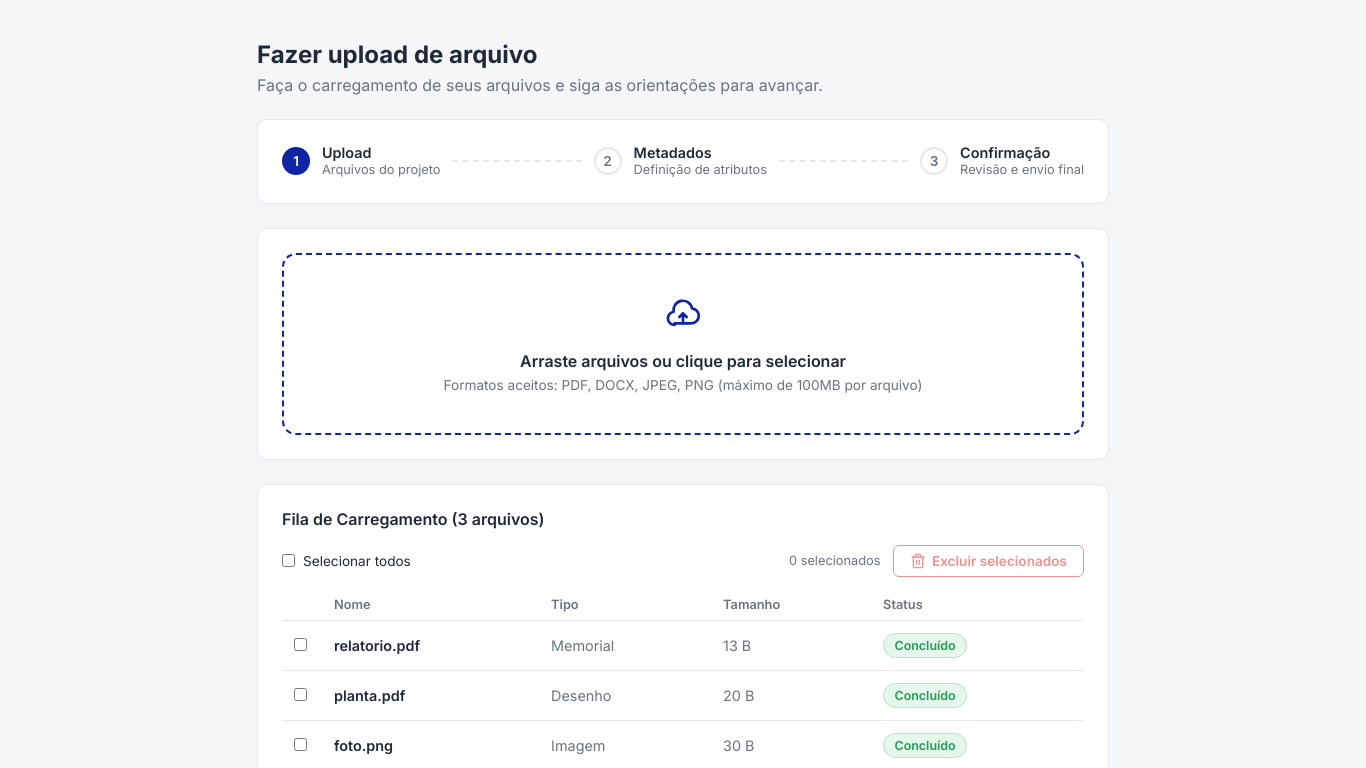
Test: DocumentUploadView › should remove several selected files in the same operation
The image size is (1366, 768).
Step 1. Click the checkbox named "Selecionar relatorio.pdf" → (300, 645), box x1=294 y1=638 x2=307 y2=651
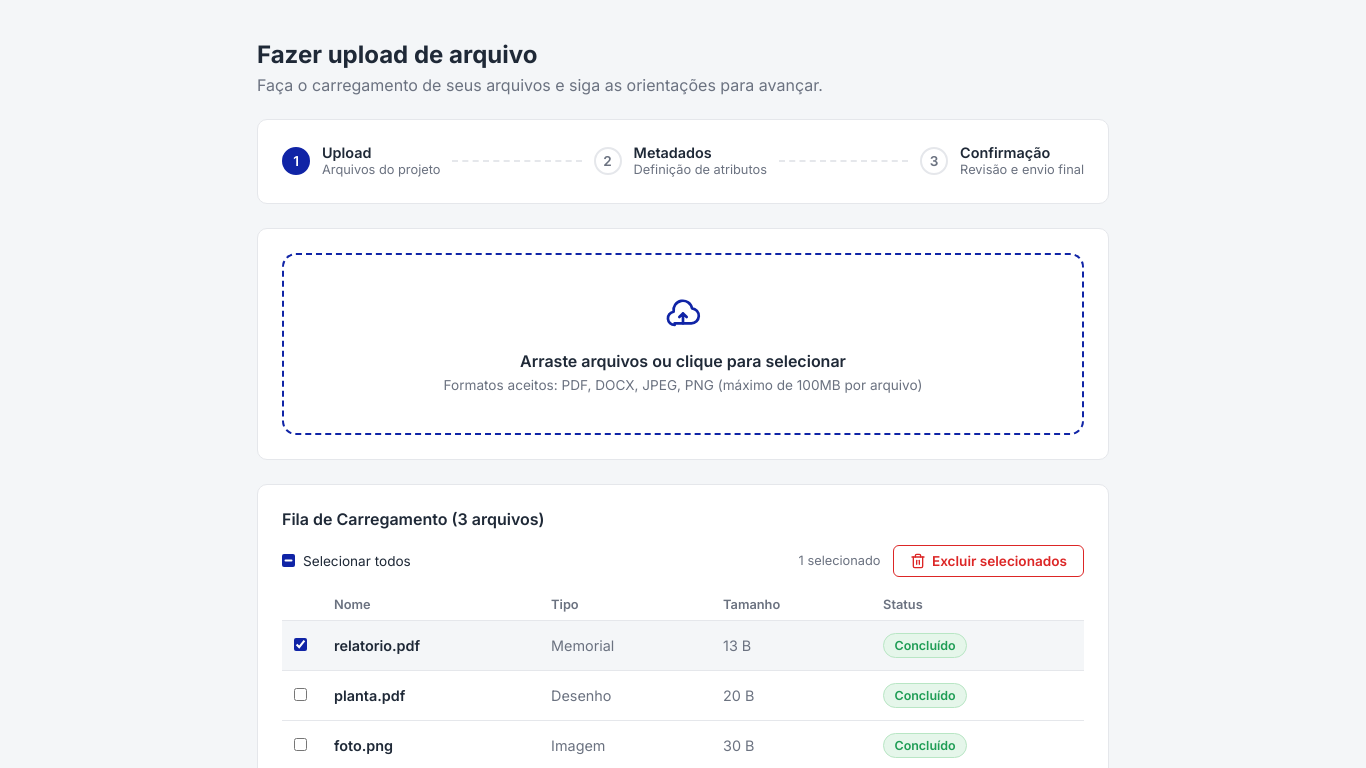
Step 2. Click the checkbox named "Selecionar foto.png" → (300, 745), box x1=294 y1=738 x2=307 y2=751
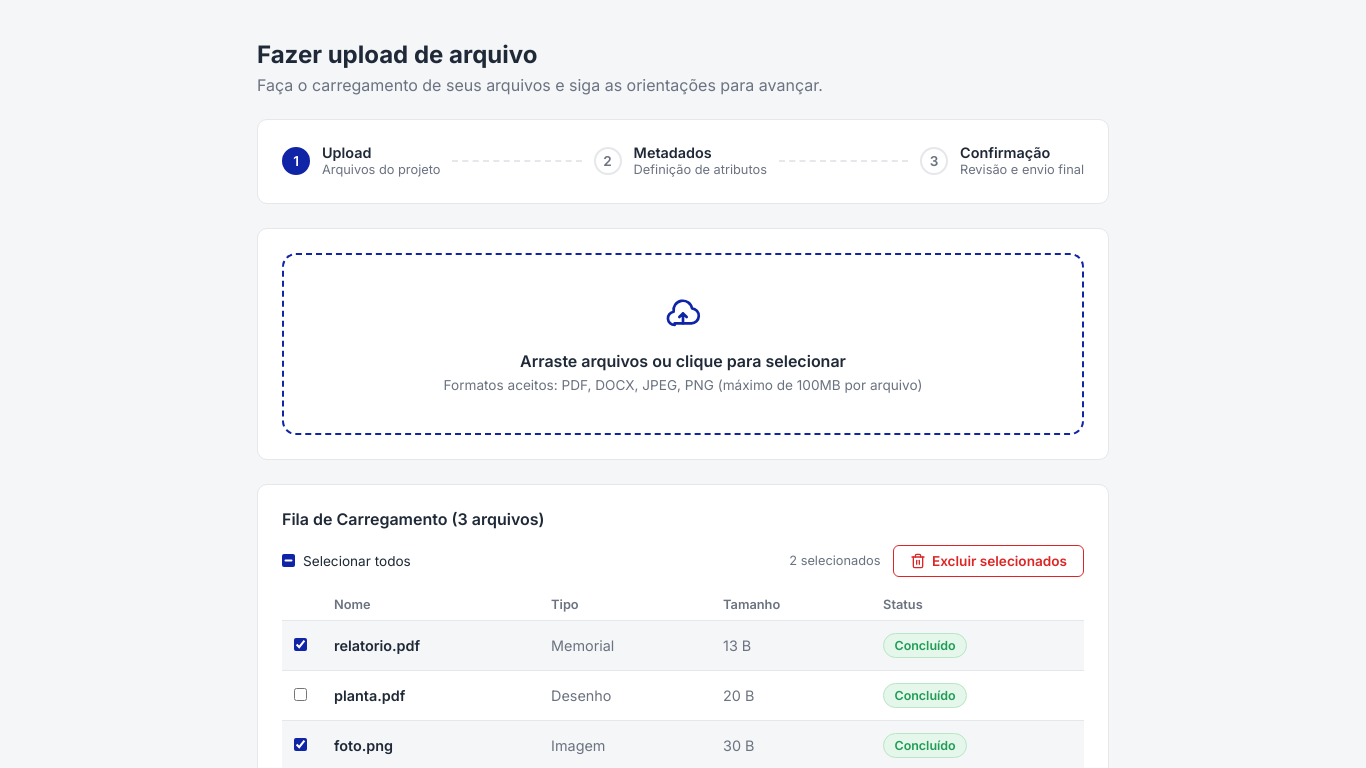
Step 3. Click the button "Excluir selecionados" → (988, 561), box x1=892 y1=544 x2=1084 y2=577
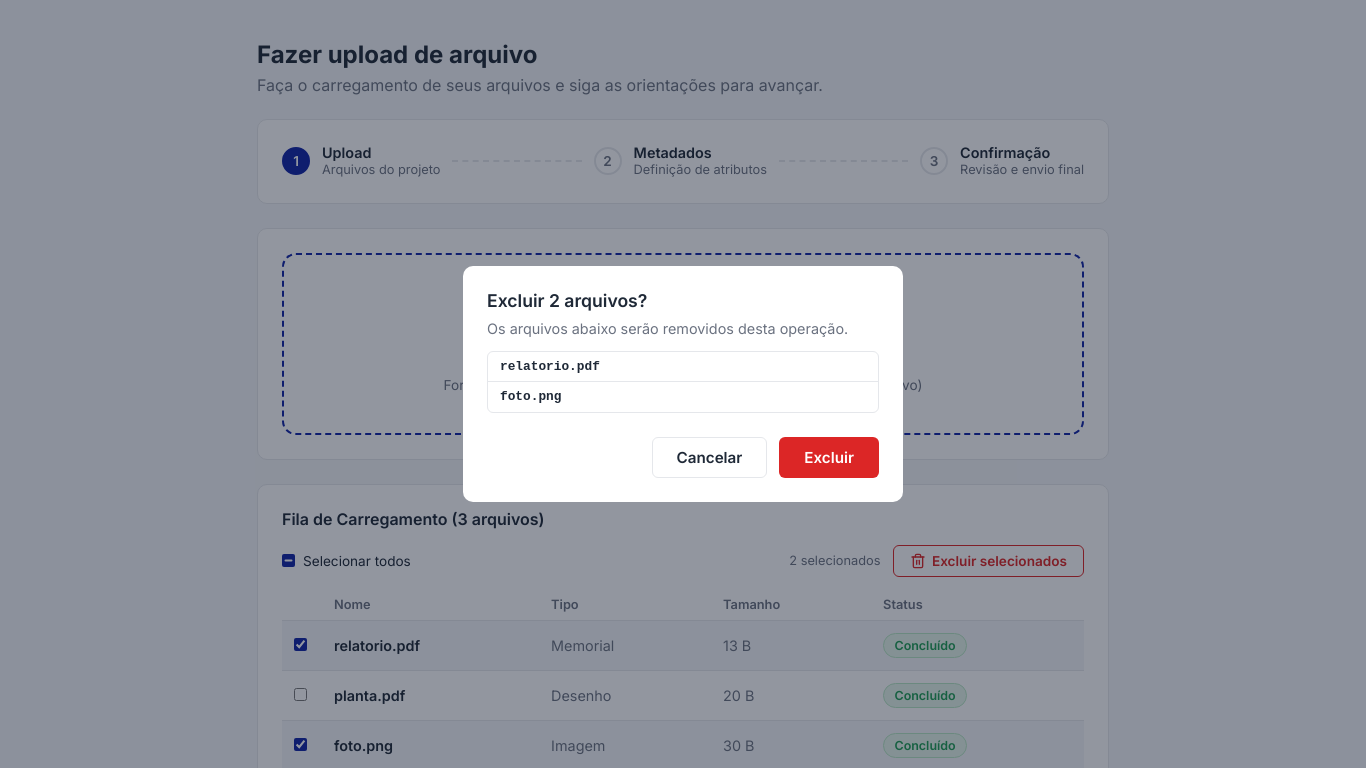
Expected: the dialog shows "Excluir 2 arquivos?", x1=487 y1=290 x2=647 y2=311
Step 4. Click the button "Excluir" → (829, 458), box x1=779 y1=437 x2=879 y2=478
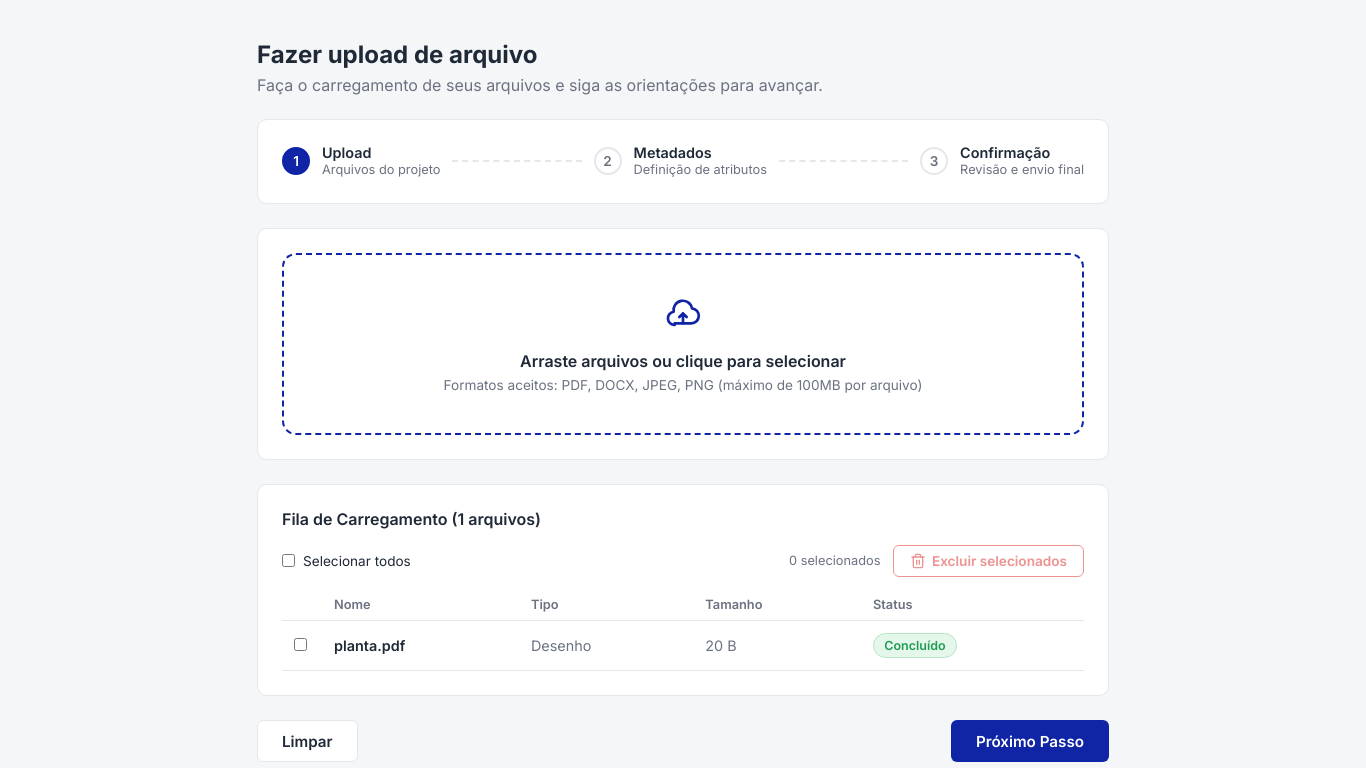
Expected: the text "Fila de Carregamento (1 arquivos)" is shown, x1=282 y1=508 x2=541 y2=528
Expected: the text "0 selecionados" is shown, x1=789 y1=553 x2=880 y2=568
